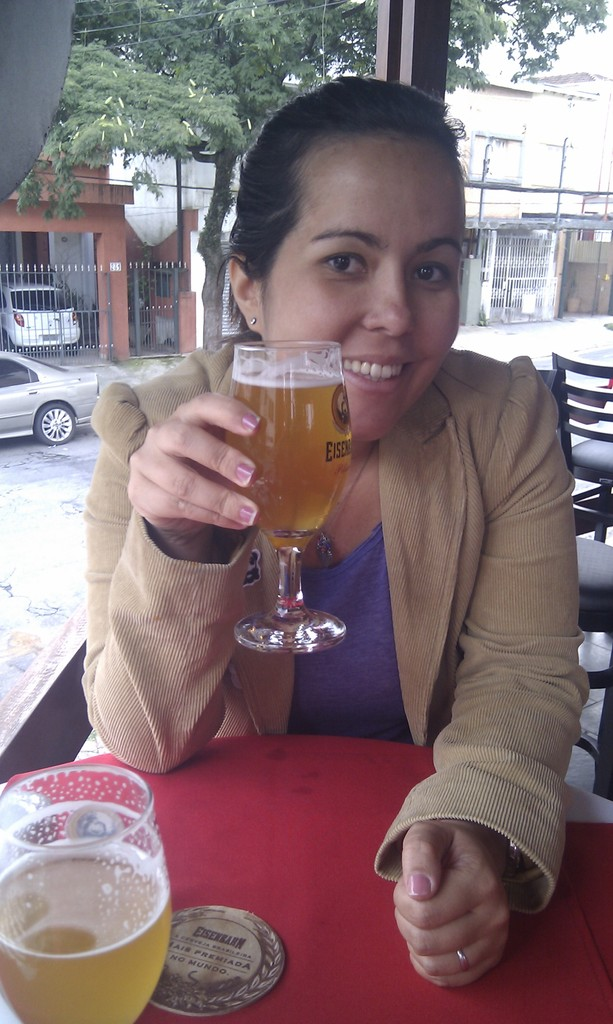Person: (81, 75, 590, 988)
